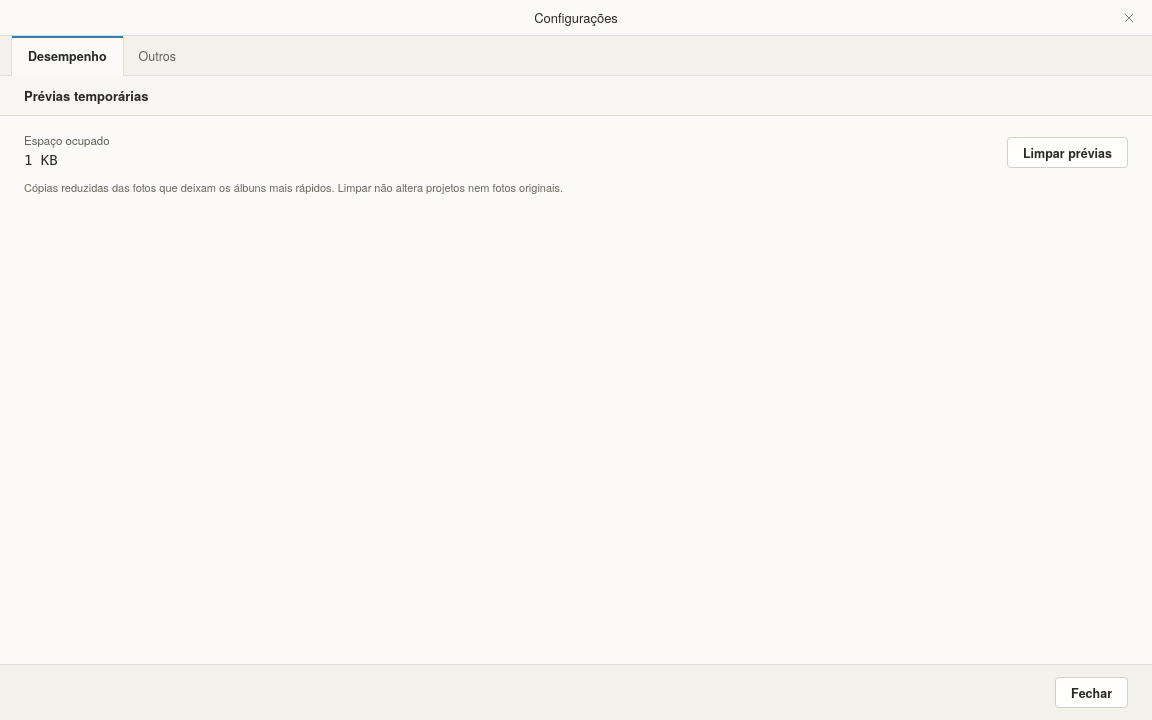
it: dismissing the cache confirmation with escape never requests cleanup
Click the button "Limpar prévias".
click(1067, 152)  # box [1007,137,1128,168]
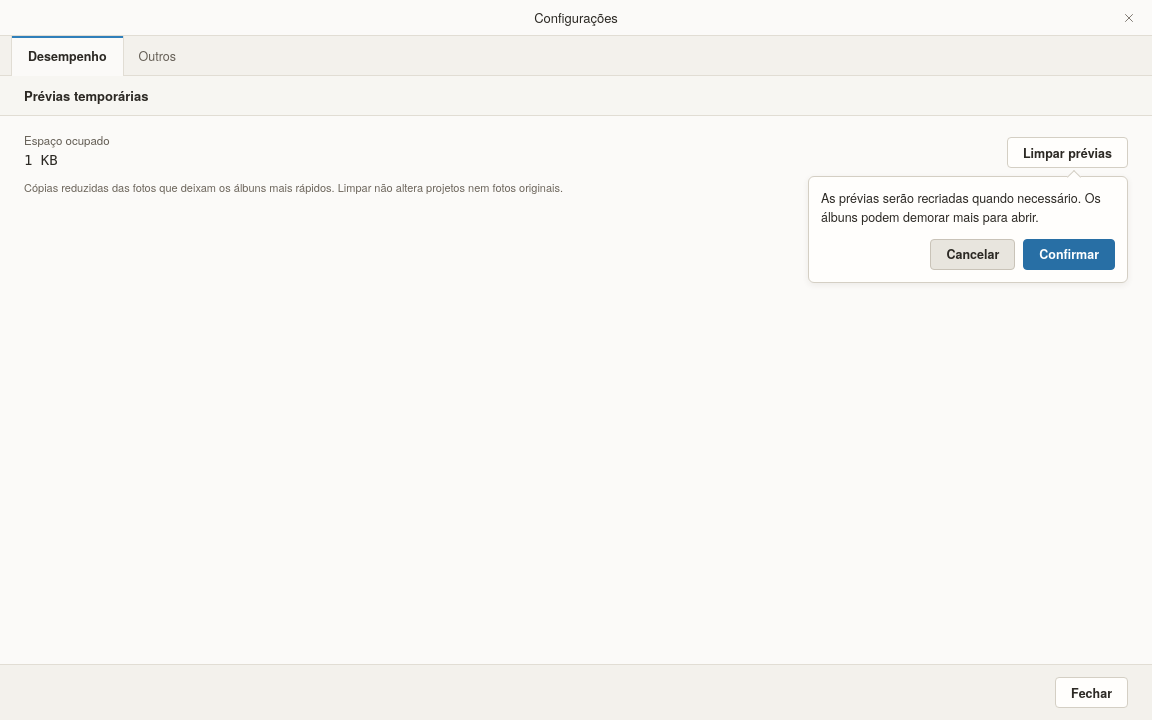
Check: the text "Espaço ocupado" is shown, box [24,132,110,148]
Check: the dialog named "Confirmar limpeza das prévias temporárias" is shown, box [808,176,1128,282]
Press Escape
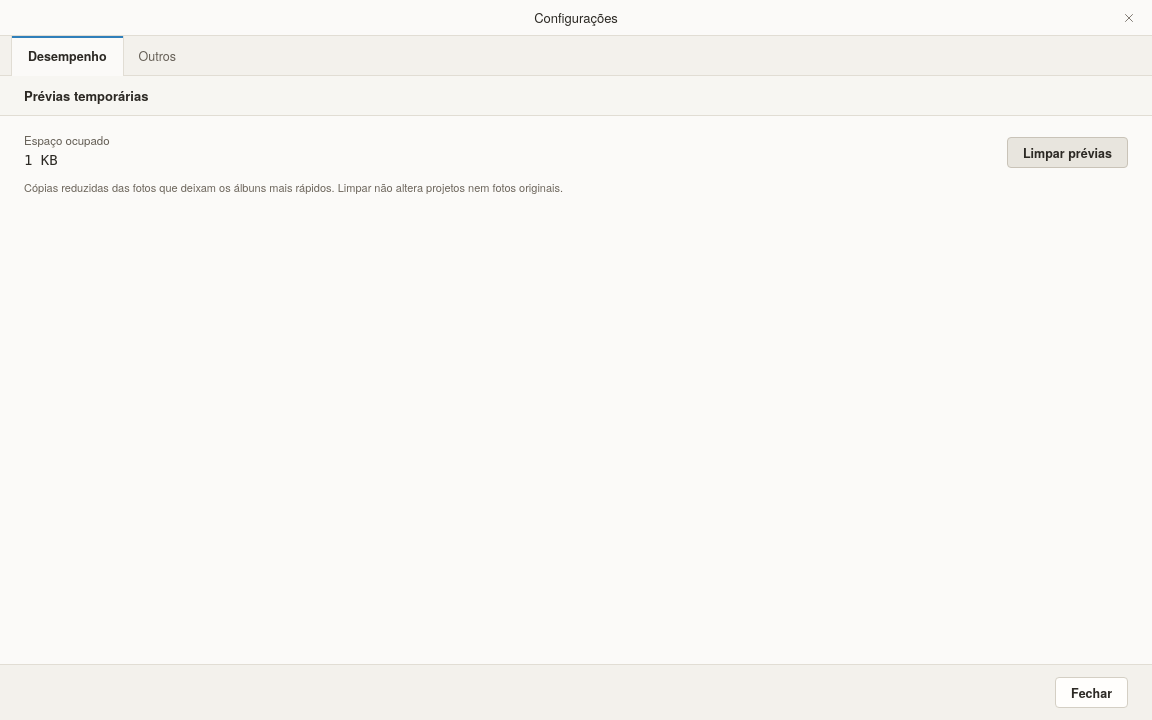
Check: the dialog is gone
